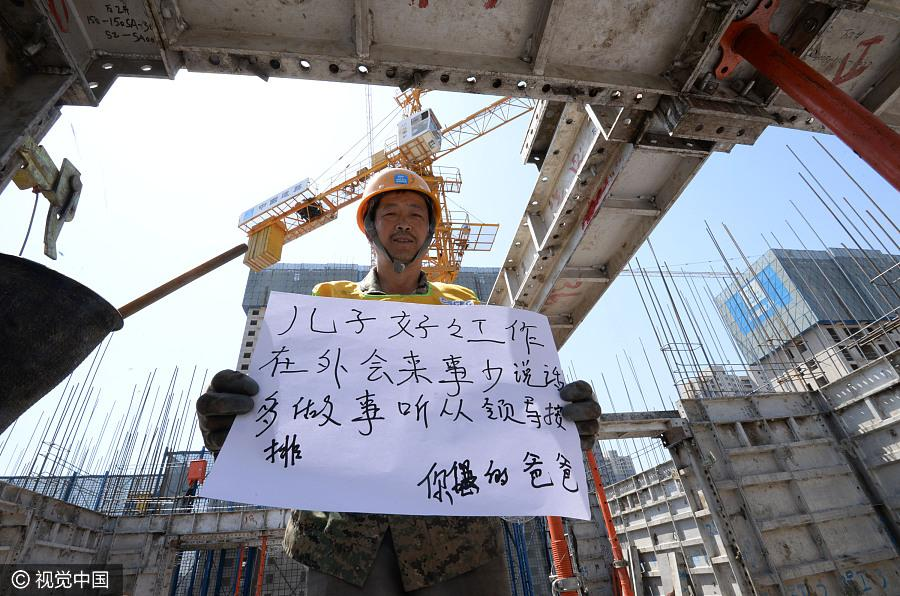helmet: (357, 165, 449, 227)
